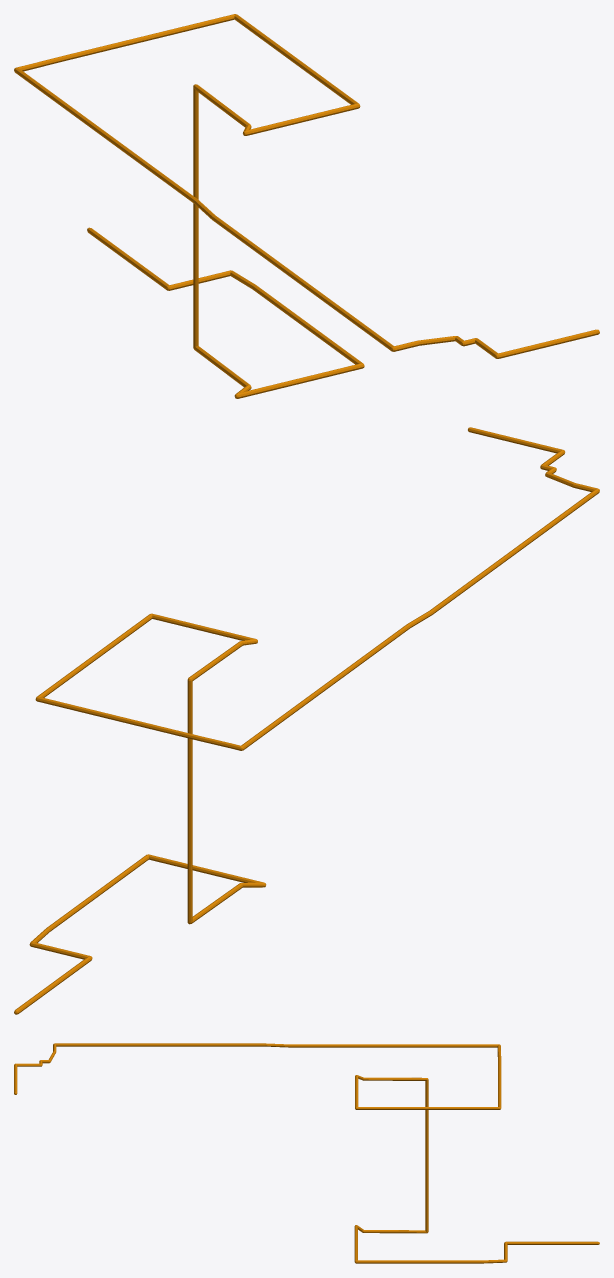
The picture shows the model from 3 angles, top to bottom: view 1: azimuth 30°, elevation 25°; view 2: azimuth 150°, elevation 25°; view 3: azimuth 270°, elevation 25°; orthographic projection. The views are drawn at different scales.
Size of the model in its own units: 928 by 1020 by 3485.
